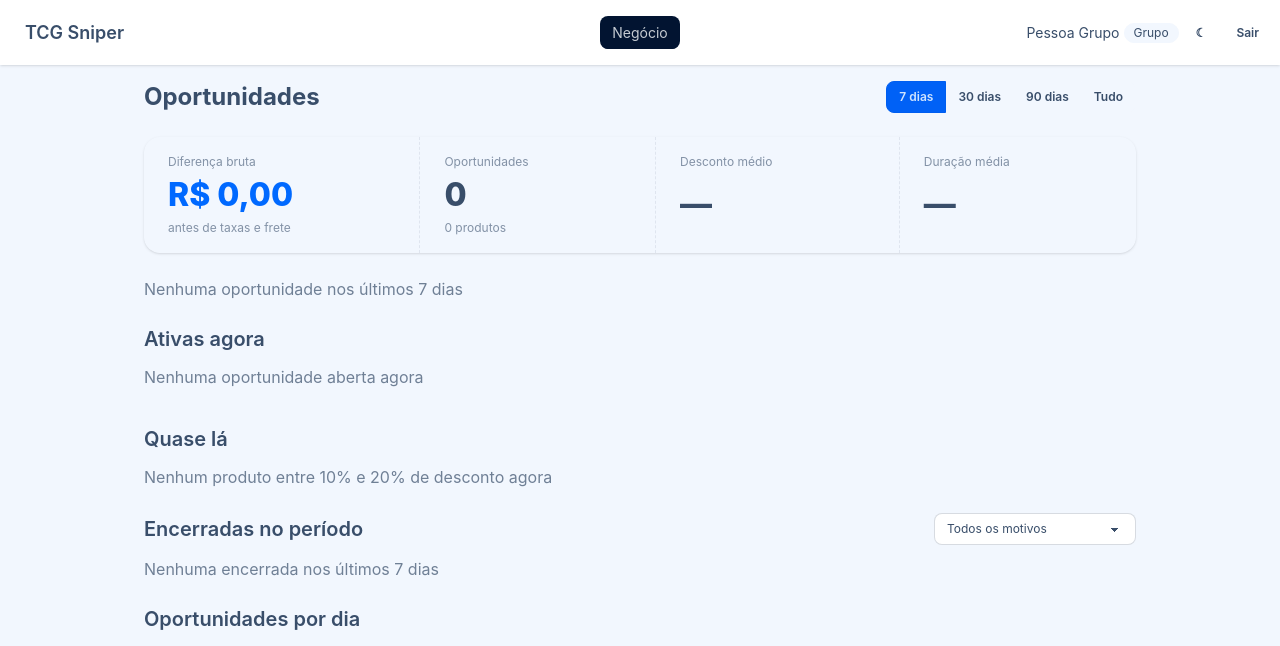
Test: proteção das rotas › Sair encerra a sessão e volta para Entrar
Click the button "Sair" at coordinates (1248, 32), box [1223,16,1272,48]
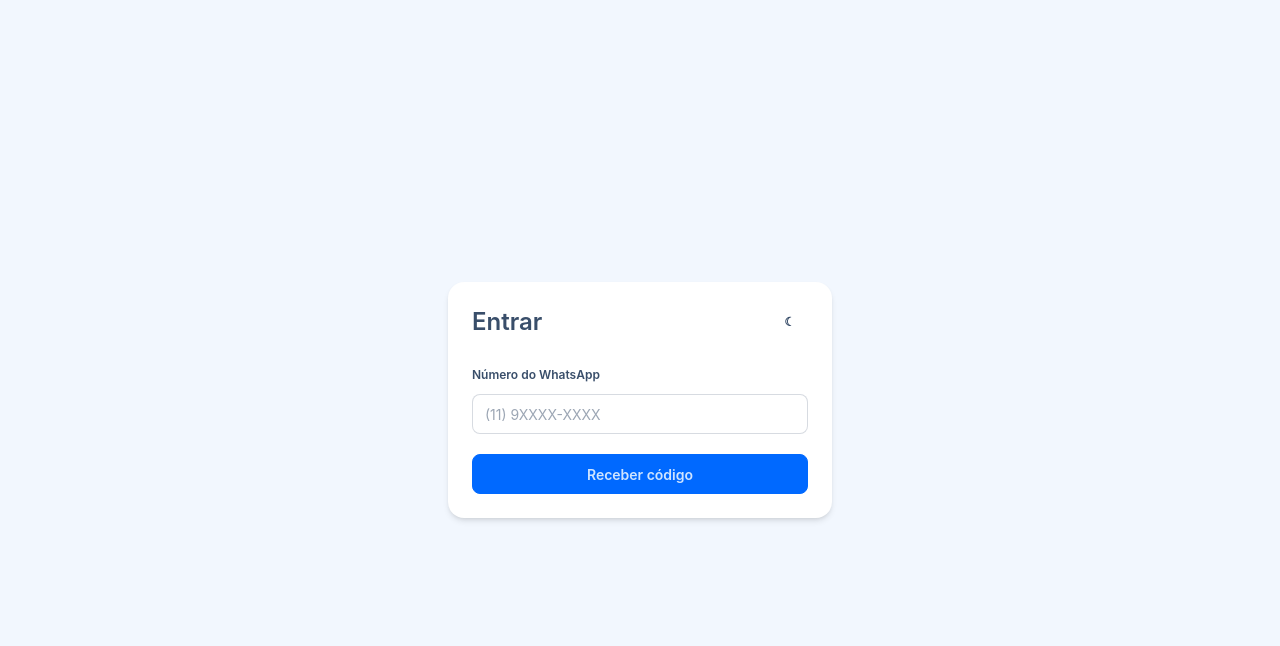
Check: the heading "Entrar" is shown, box [472,306,542,338]
